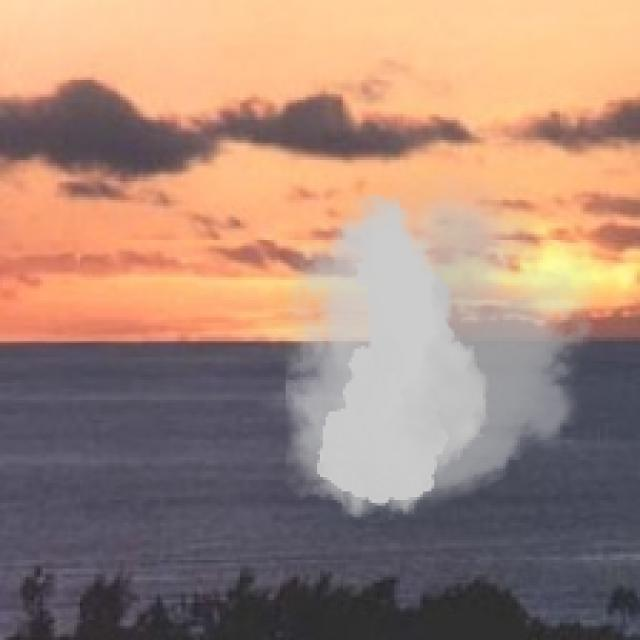smoke: (257, 172, 614, 528)
